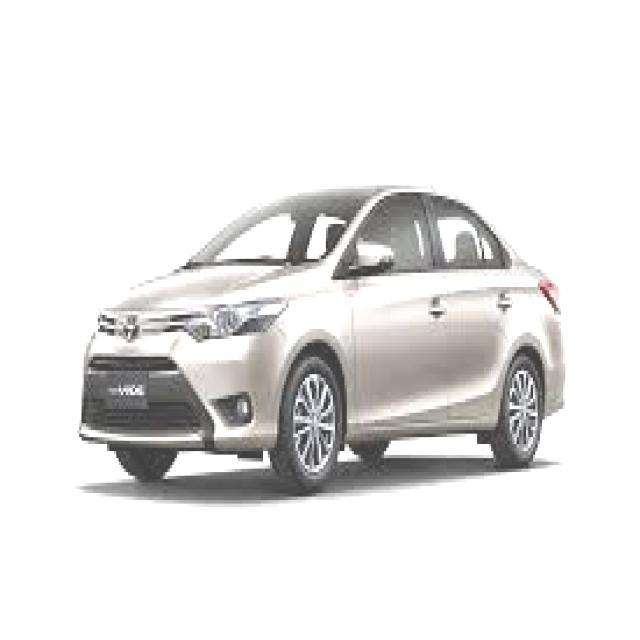ToyotaVios: (77, 183, 566, 494)
